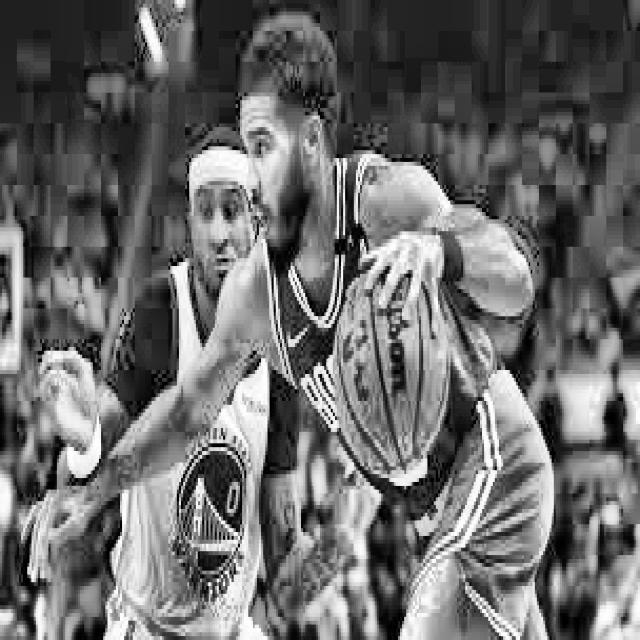Basketball: (335, 264, 448, 488)
